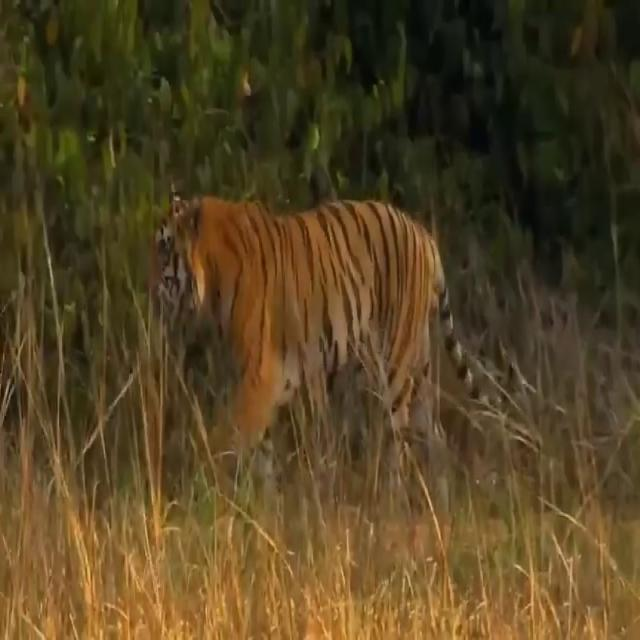tiger: (151, 190, 514, 592)
